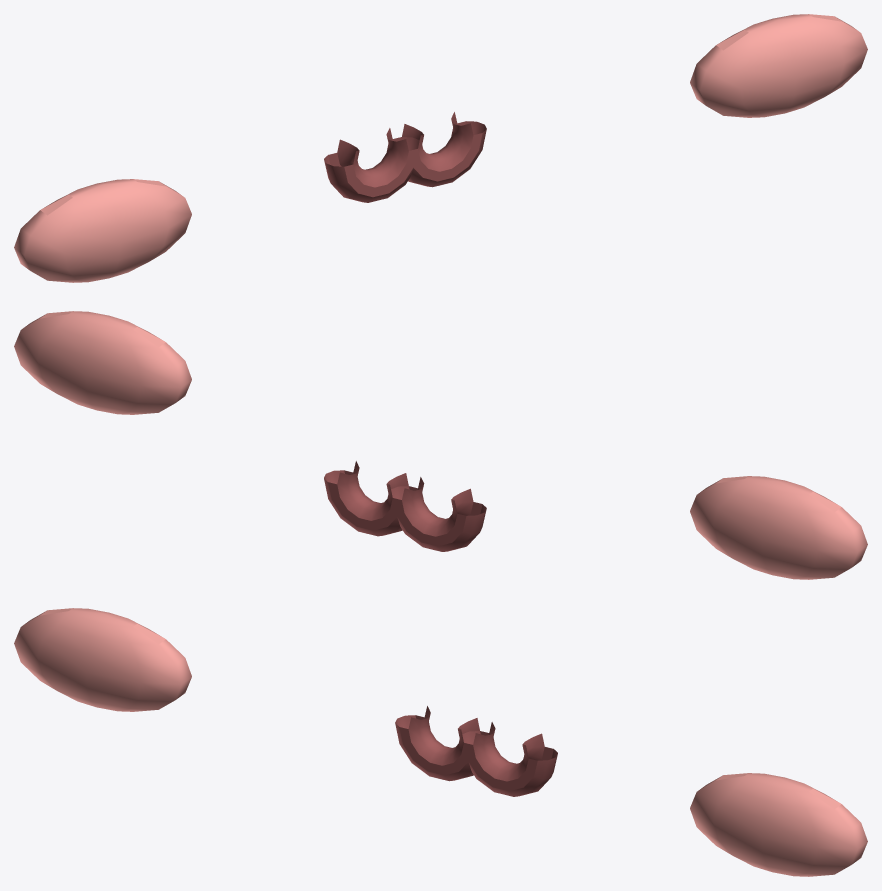
File: Face_Cat.fbx
3 views of the same model, one above another, from view 1: azimuth 30°, elevation 25°; view 2: azimuth 150°, elevation 25°; view 3: azimuth 330°, elevation 25° (orthographic).
Parts seen in each view (by area): view 1: Cheek, Cheek.001, Mouth.001, Mouth; view 2: Cheek, Cheek.001, Mouth.001, Mouth; view 3: Cheek, Cheek.001, Mouth, Mouth.001.
Part boxes in pixels (x1=…): Cheek: x1=690, y1=14, x2=867, y2=117; Cheek.001: x1=14, y1=179, x2=191, y2=282; Mouth.001: x1=324, y1=128, x2=419, y2=202; Mouth: x1=391, y1=112, x2=486, y2=187; Cheek: x1=14, y1=311, x2=191, y2=414; Cheek.001: x1=690, y1=476, x2=867, y2=579; Mouth.001: x1=391, y1=477, x2=486, y2=551; Mouth: x1=324, y1=461, x2=418, y2=536; Cheek: x1=690, y1=773, x2=867, y2=876; Cheek.001: x1=14, y1=608, x2=191, y2=711; Mouth: x1=462, y1=722, x2=557, y2=796; Mouth.001: x1=395, y1=706, x2=490, y2=781.
Bounding box in the file's own units: 57.41 × 7.52 × 7.15.
